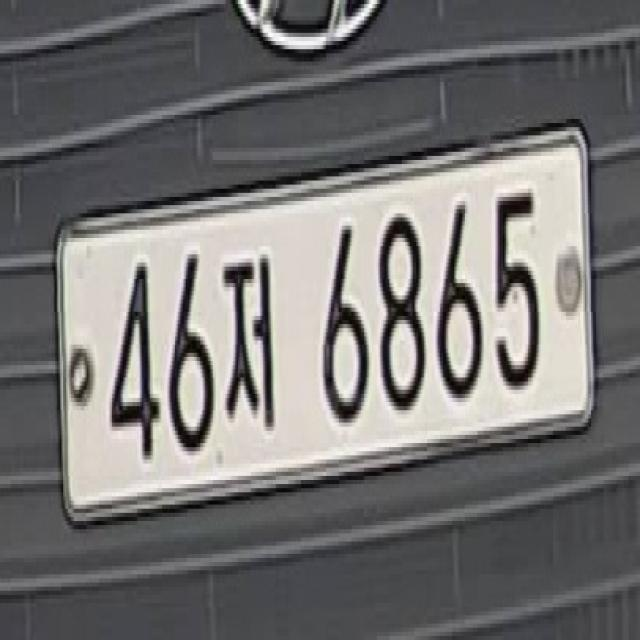4: (102, 242, 164, 498)
5: (492, 184, 544, 410)
6: (166, 238, 218, 499), (315, 218, 374, 443), (433, 190, 488, 410)
8: (376, 205, 429, 441)
jeo: (220, 246, 284, 464)
license_plate: (39, 93, 614, 580)
